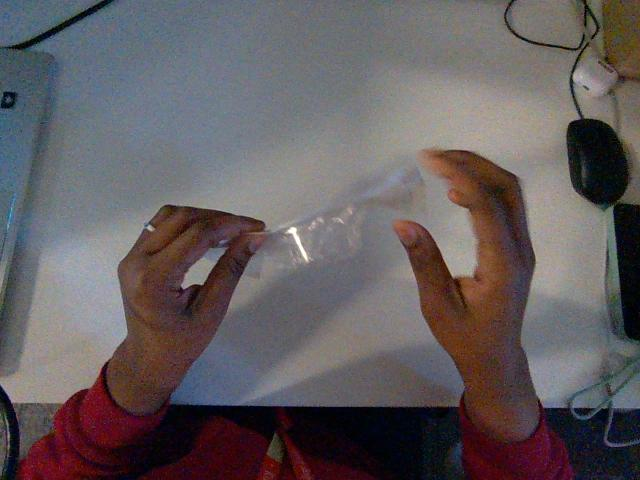gallipot: (246, 165, 424, 275)
